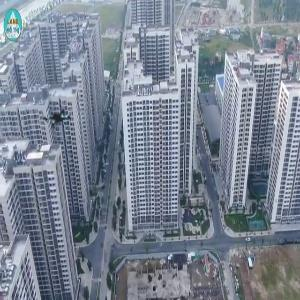drone: (32, 92, 86, 146)
